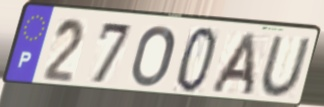0: (174, 25, 219, 95)
2: (39, 16, 87, 85)
7: (92, 19, 132, 86)
A: (207, 30, 257, 98)
O: (129, 24, 177, 89)
U: (259, 34, 314, 99)
